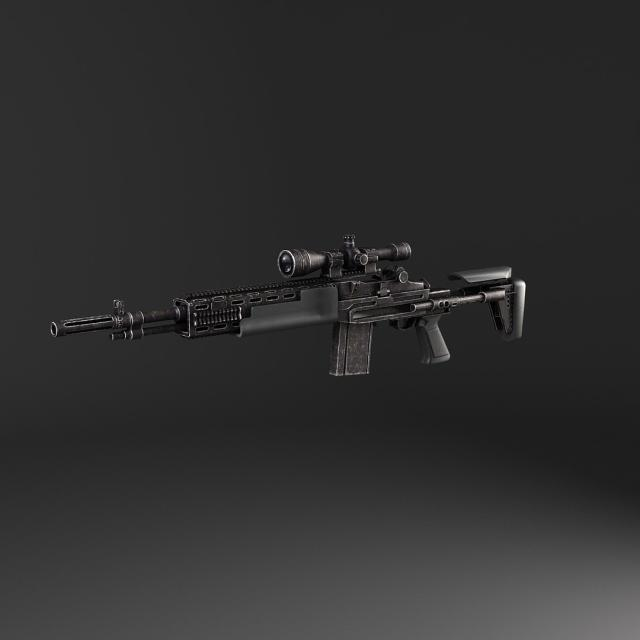Gun: (0, 190, 560, 408)
